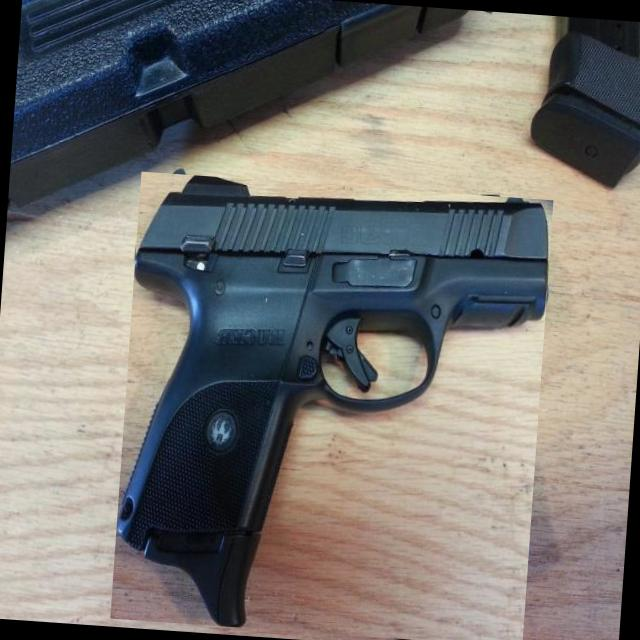Gun: (116, 175, 548, 627)
